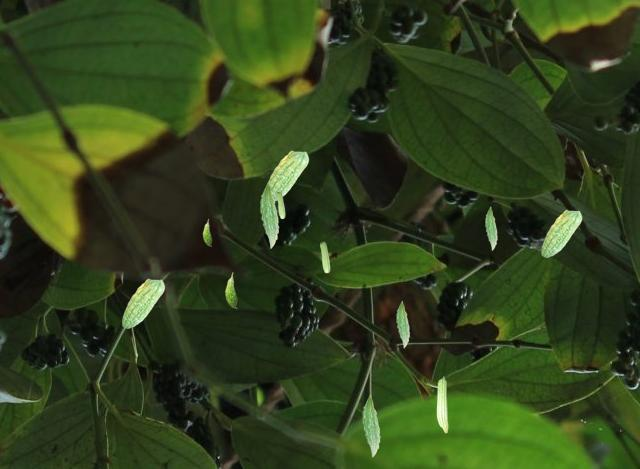ampalaya: (121, 278, 165, 329), (268, 150, 309, 201), (541, 209, 582, 258), (260, 182, 279, 249), (362, 394, 380, 457), (436, 375, 448, 433), (396, 300, 410, 348), (485, 206, 497, 251), (224, 272, 237, 308), (319, 241, 330, 273), (202, 218, 212, 246), (276, 191, 285, 219)
